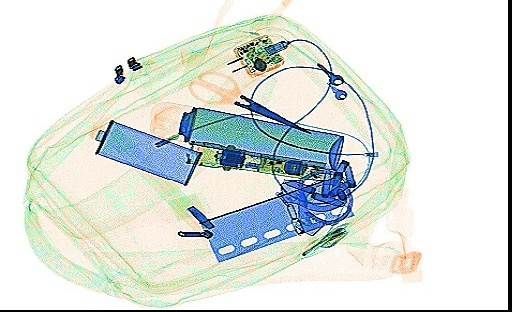handcuffs: (281, 167, 354, 227)
pressure: (146, 98, 345, 171), (181, 137, 324, 181)
scissors: (187, 69, 311, 133)
zippooil: (87, 117, 201, 188)
